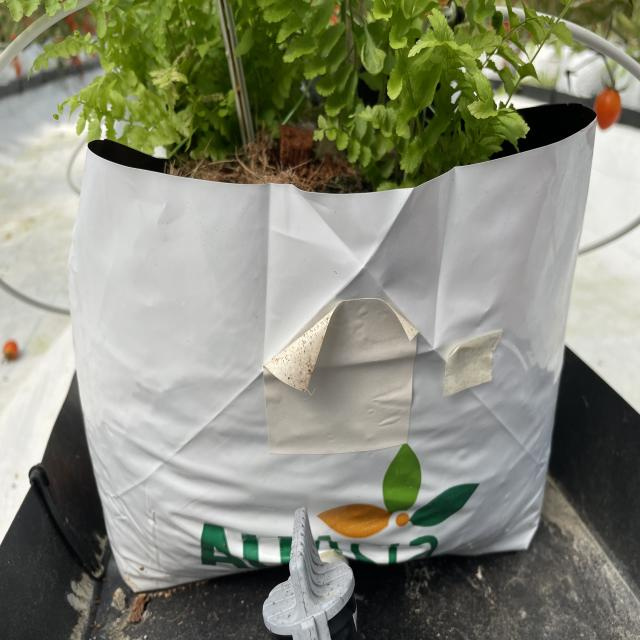Obstacle: (217, 0, 262, 156)
Soilbag: (6, 87, 600, 640)
plant: (104, 0, 590, 146)
